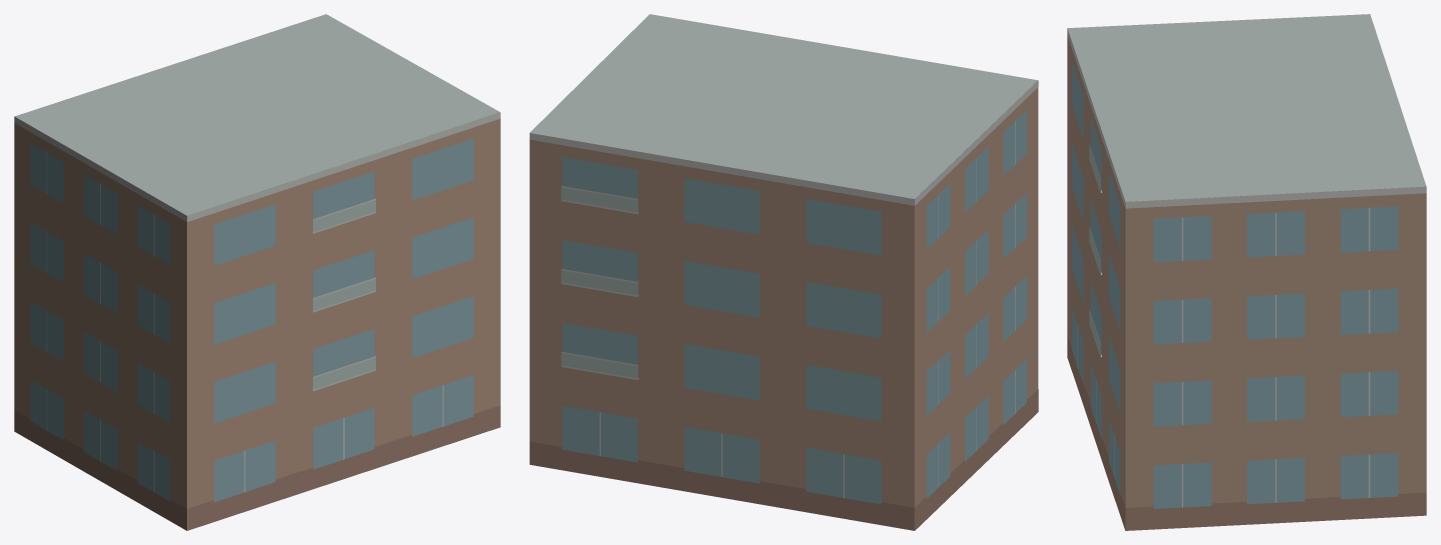
The model's file is survey-upis-32532711.glb.
3 views of the same model, side by side, from view 1: azimuth 30°, elevation 25°; view 2: azimuth 150°, elevation 25°; view 3: azimuth 270°, elevation 25° (orthographic). The views are drawn at different scales.
Visible parts, largest first — view 1: survey-upis-32532711.tmp; view 2: survey-upis-32532711.tmp; view 3: survey-upis-32532711.tmp.
Boxes of the visible parts, box(x1,y1,x2,y2) form: survey-upis-32532711.tmp: box(14, 14, 500, 530); survey-upis-32532711.tmp: box(529, 14, 1038, 530); survey-upis-32532711.tmp: box(1067, 14, 1426, 530).
Bounding box in the file's own units: 14.84 × 12.1 × 11.99.
